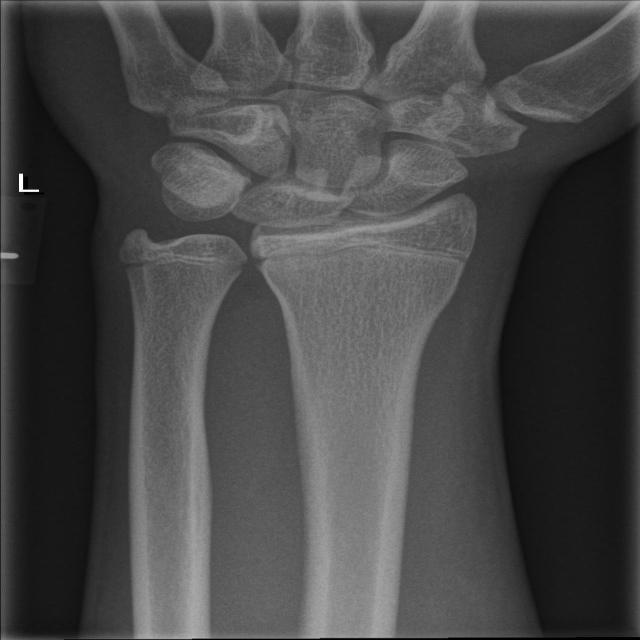fracture: (234, 226, 494, 281), (110, 231, 260, 281)
